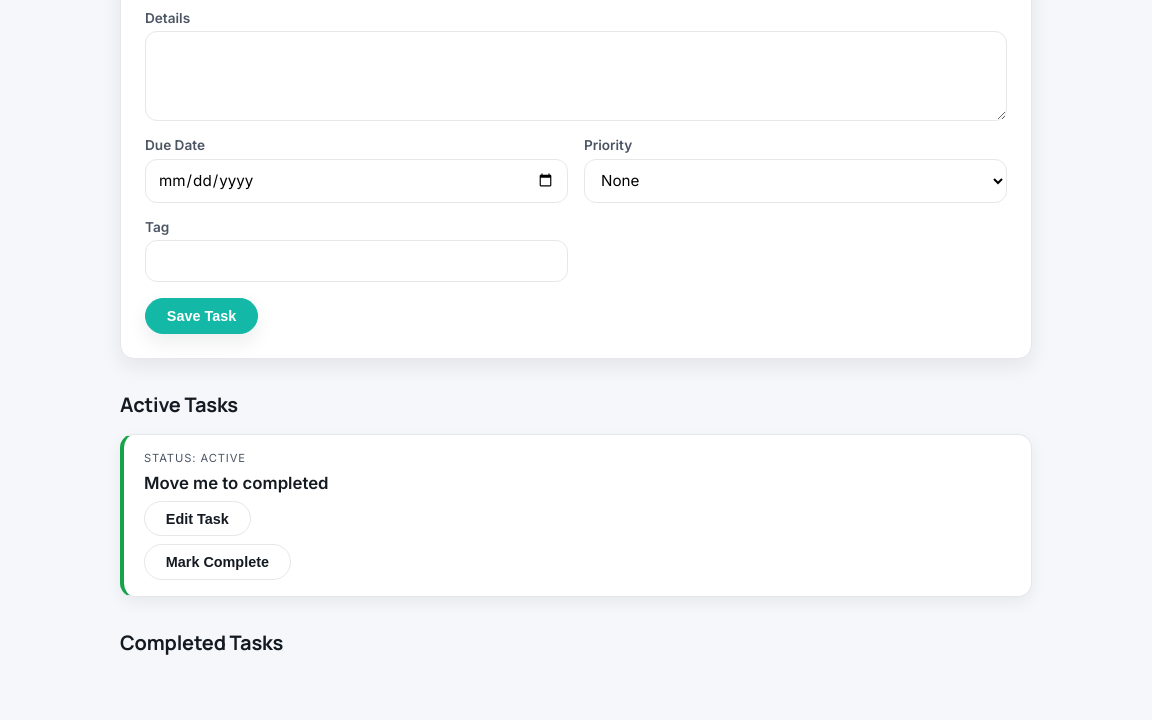
Task experience (US-001 + US-002 + US-003 + US-004) › marks an active task as completed and moves it immediately
(page scrolled)
Step 1. Click the button "Mark Complete" → click(217, 562), box [144,544,291,580]
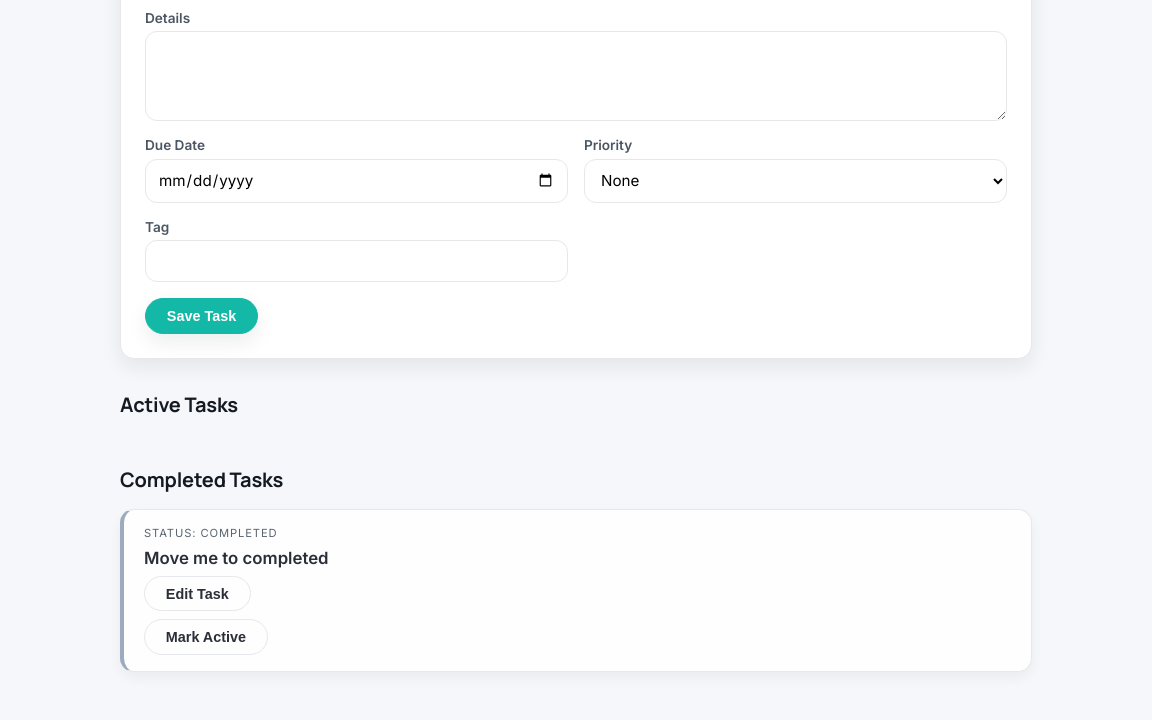
expect the text "Move me to completed" is shown: met, box [144,548,329,568]
expect the text "Status: Completed" is shown: met, box [144,526,278,540]
